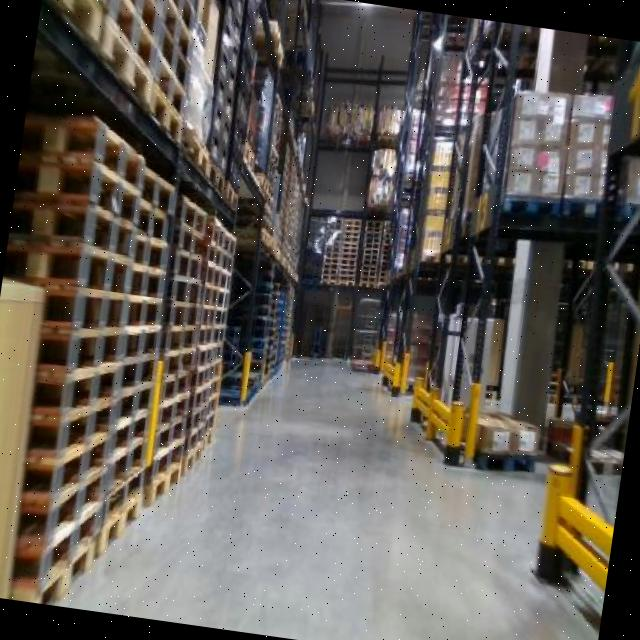pallet: (18, 94, 158, 193), (5, 187, 146, 275), (16, 141, 150, 231), (36, 274, 133, 350)
